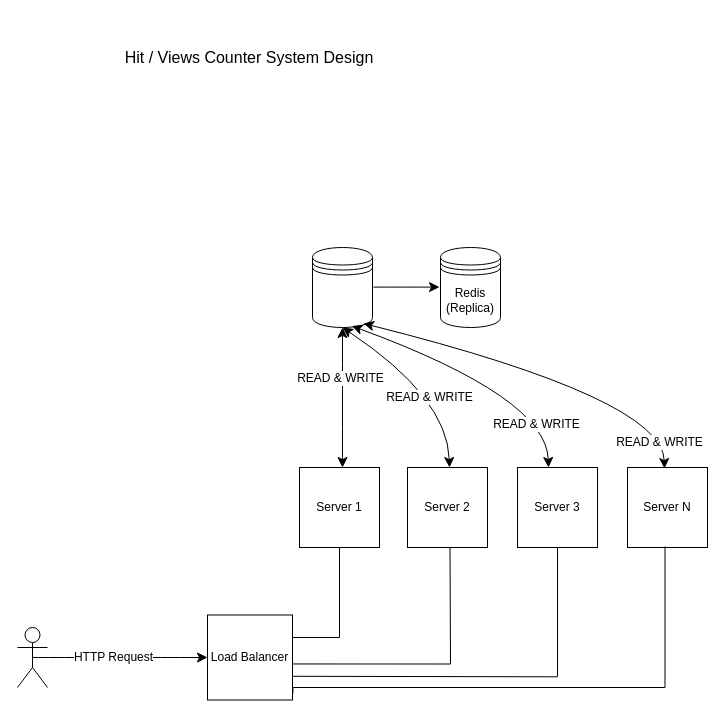
Image size: 725x725. Some labels were removed from this diagram. The shapes that lost their labels are listed below. From the top down, each one's centre as x and y in pixels, then its label:
point (342, 287): Redis (Master)
point (32, 657): Actor
